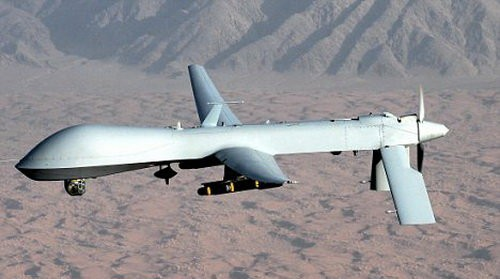maybay_khongnguoilai: (18, 65, 450, 228)
